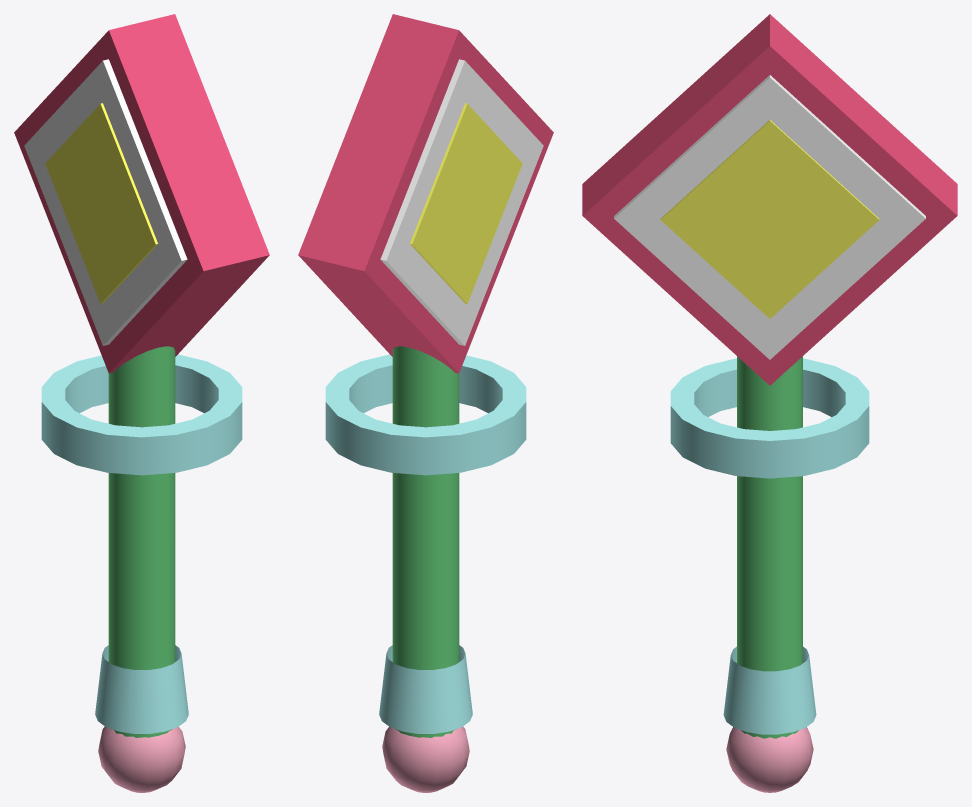
File: Star Guardian Penlight.FBX
3 renders of one model, left to right at view 1: azimuth 30°, elevation 25°; view 2: azimuth 150°, elevation 25°; view 3: azimuth 270°, elevation 25°, orthographic.
Visible parts, largest first — view 1: Object003, Sphere001; view 2: Object003, Sphere001; view 3: Object003, Sphere001.
Part boxes in pixels (left/top/right/bottom): Object003: left=14, top=14, right=269, bottom=475; Sphere001: left=95, top=346, right=188, bottom=792; Object003: left=298, top=14, right=553, bottom=475; Sphere001: left=379, top=346, right=472, bottom=792; Object003: left=582, top=14, right=957, bottom=478; Sphere001: left=723, top=356, right=816, bottom=792.
Bounding box in the file's own units: 9.11 × 37.86 × 16.96.
